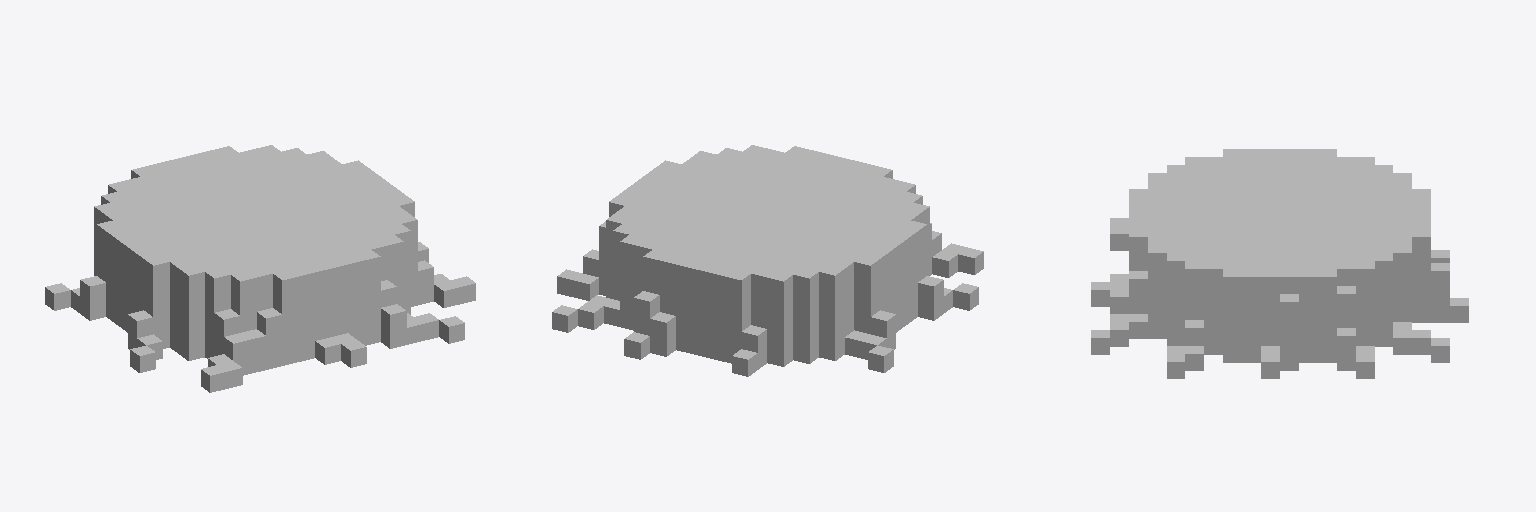
File: Stump.obj
The picture shows the model from 3 angles: view 1: azimuth 30°, elevation 25°; view 2: azimuth 150°, elevation 25°; view 3: azimuth 270°, elevation 25°; orthographic projection.
Size of the model in its own units: 20 by 5 by 20.